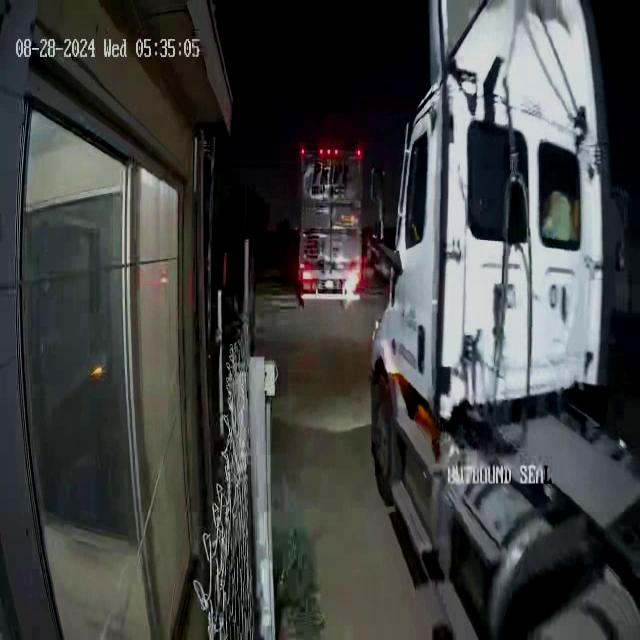CONTAINER: (298, 144, 364, 288)
